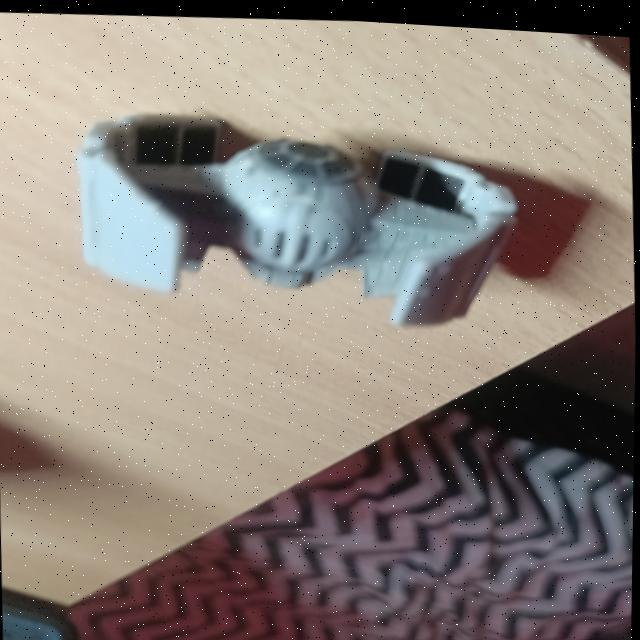tie fighter: (65, 92, 525, 341)
